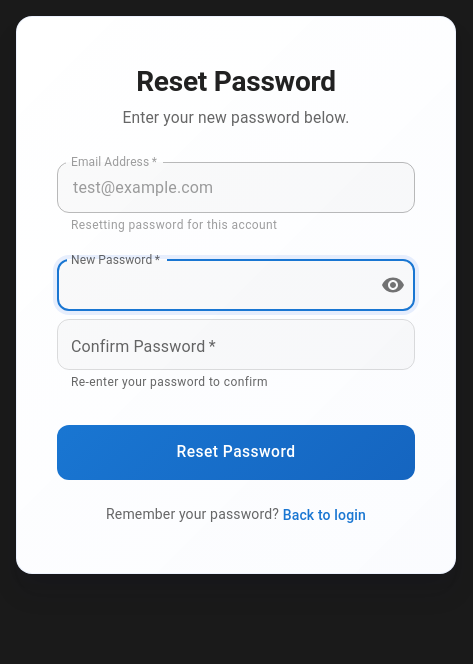
Test case: PasswordResetConfirmForm › password strength › should show feedback for missing uppercase letter
// Enter password without uppercase
In the password field labelled "New Password *": x=211, y=285 [57,260,365,311], type "lowercase1!"
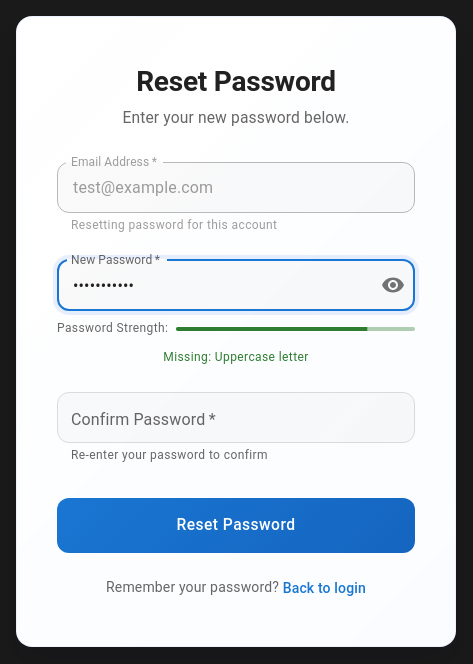
Expected: the text "Missing: Uppercase letter" is shown, [163,350,309,364]
